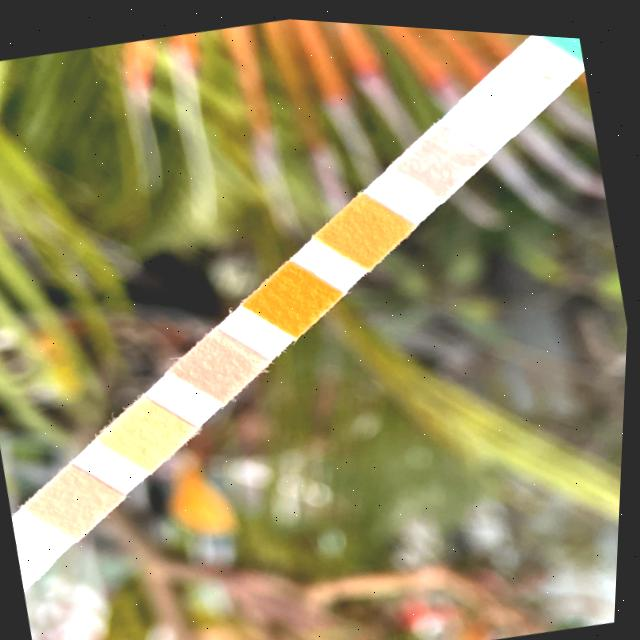Bilirubin: (481, 60, 543, 115)
Blood: (262, 267, 326, 322)
Glucose: (551, 29, 581, 45)
Ketone: (409, 130, 471, 183)
Protein: (120, 406, 180, 460)
SpGravity: (332, 200, 395, 254)
Urobilinogen: (49, 475, 109, 528)
pH: (192, 337, 255, 390)
